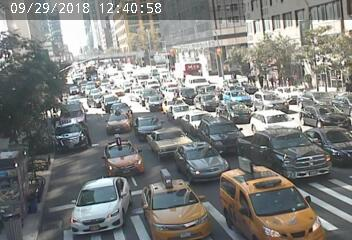car: (229, 172, 318, 237), (244, 128, 319, 172), (145, 181, 199, 240), (76, 179, 125, 226), (184, 145, 230, 179), (253, 108, 298, 139), (201, 118, 245, 149), (307, 103, 350, 131), (312, 130, 352, 155), (107, 143, 143, 169), (55, 122, 90, 147), (153, 132, 193, 152), (217, 100, 250, 121), (256, 91, 288, 110), (272, 84, 301, 104), (138, 118, 164, 137), (60, 100, 84, 120), (108, 109, 130, 127), (227, 90, 253, 105), (303, 92, 330, 106), (187, 109, 206, 127), (198, 93, 217, 106), (171, 104, 189, 116), (102, 95, 116, 109), (166, 97, 181, 110), (145, 98, 161, 110), (86, 94, 99, 105)
